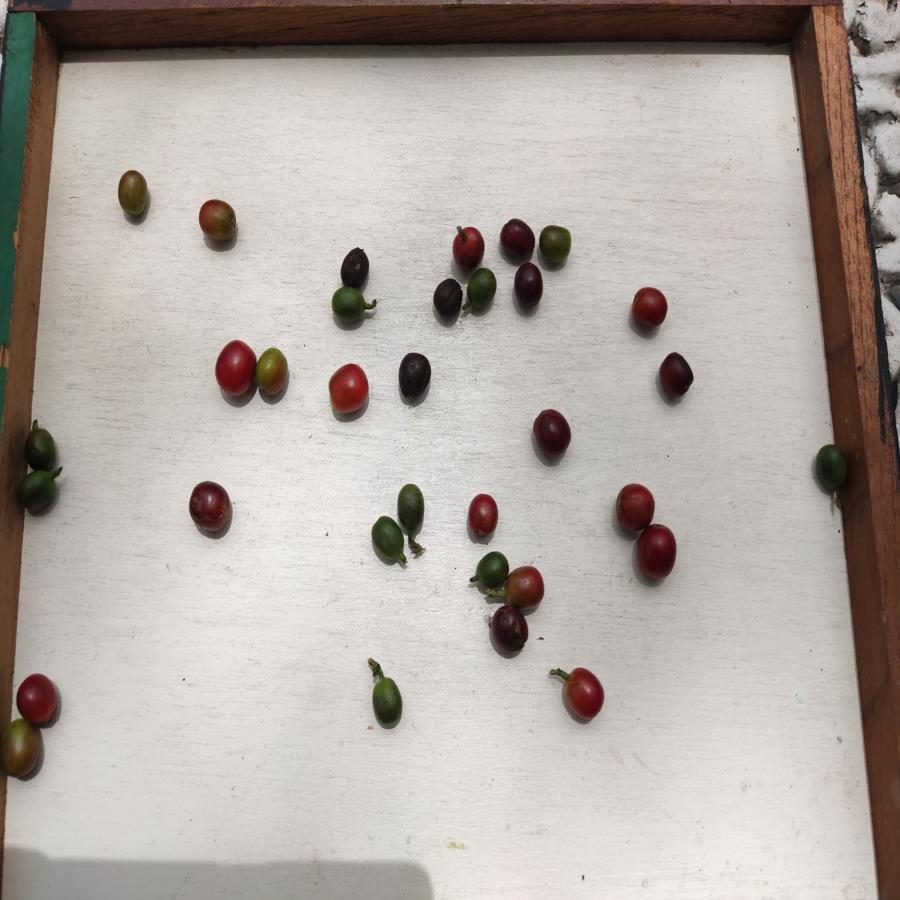Inmaduro: (811, 440, 850, 502), (367, 514, 410, 561), (21, 428, 63, 473), (369, 676, 406, 727), (19, 470, 58, 515), (465, 266, 501, 312), (328, 285, 370, 324), (395, 481, 424, 536), (474, 548, 507, 589)
Maduro: (633, 520, 680, 580), (326, 362, 373, 414), (560, 667, 606, 720), (614, 480, 658, 533), (215, 339, 255, 396), (15, 672, 58, 723), (628, 285, 667, 329), (465, 493, 502, 539), (450, 222, 485, 269)
Pinton: (1, 720, 45, 785), (195, 197, 239, 243), (116, 169, 149, 221), (255, 348, 289, 397), (505, 566, 544, 608), (537, 221, 572, 265)
Sobremaduro: (189, 478, 234, 535), (529, 406, 572, 459), (489, 606, 530, 659), (655, 350, 698, 396), (498, 215, 539, 263), (511, 262, 545, 310), (398, 354, 433, 398), (337, 246, 371, 287), (432, 278, 464, 319)
